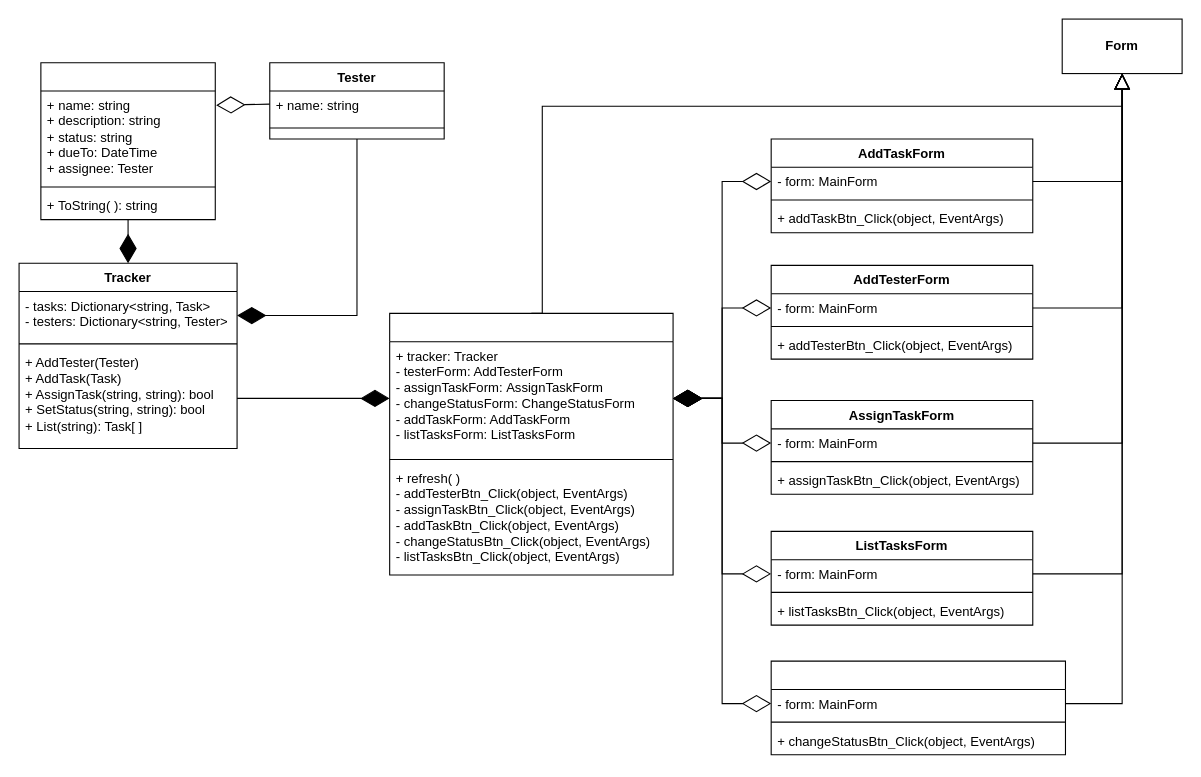
Image size: 1201x777. Some labels were removed from this diagram. The box of each missing label's shape, as (x1, y1, x2, y2) in pixels:
ChangeStatusForm: (770, 660, 1065, 755)
MainForm: (389, 312, 673, 575)
Task: (40, 62, 215, 220)
